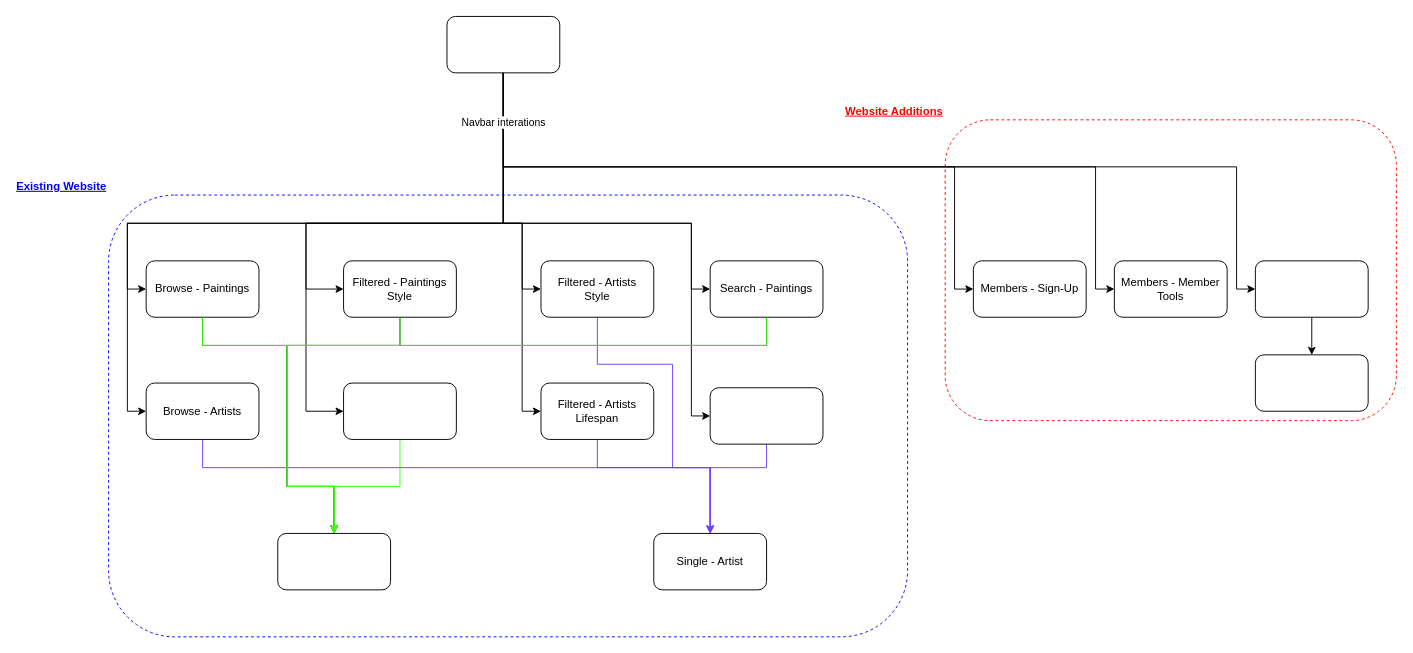
The diagram is 1413 pixels wide and 653 high, and some of its shapes have lost their labels. The centre of each missing label's shape, as x and y in pixels:
"Admin - Admin Tools" belongs at [1311,382].
"Admin - Log-In" belongs at [1311,288].
"Filtered - Paintings Artist" belongs at [399,410].
"Homepage" belongs at [503,44].
"Search - Artists" belongs at [766,415].
"Single - Painting" belongs at [334,561].
